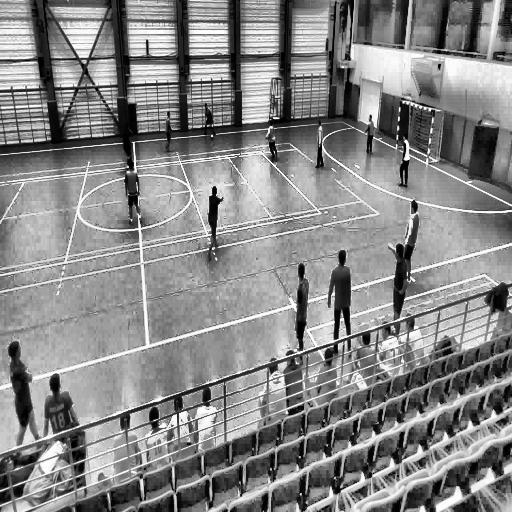ball: (210, 130, 216, 140)
player: (8, 342, 41, 448), (327, 249, 352, 355), (294, 263, 309, 358), (206, 186, 224, 262), (403, 200, 419, 278), (125, 158, 143, 226), (397, 131, 410, 187), (266, 118, 277, 162), (315, 118, 324, 170), (364, 114, 375, 156), (204, 102, 216, 140), (164, 110, 173, 154)
